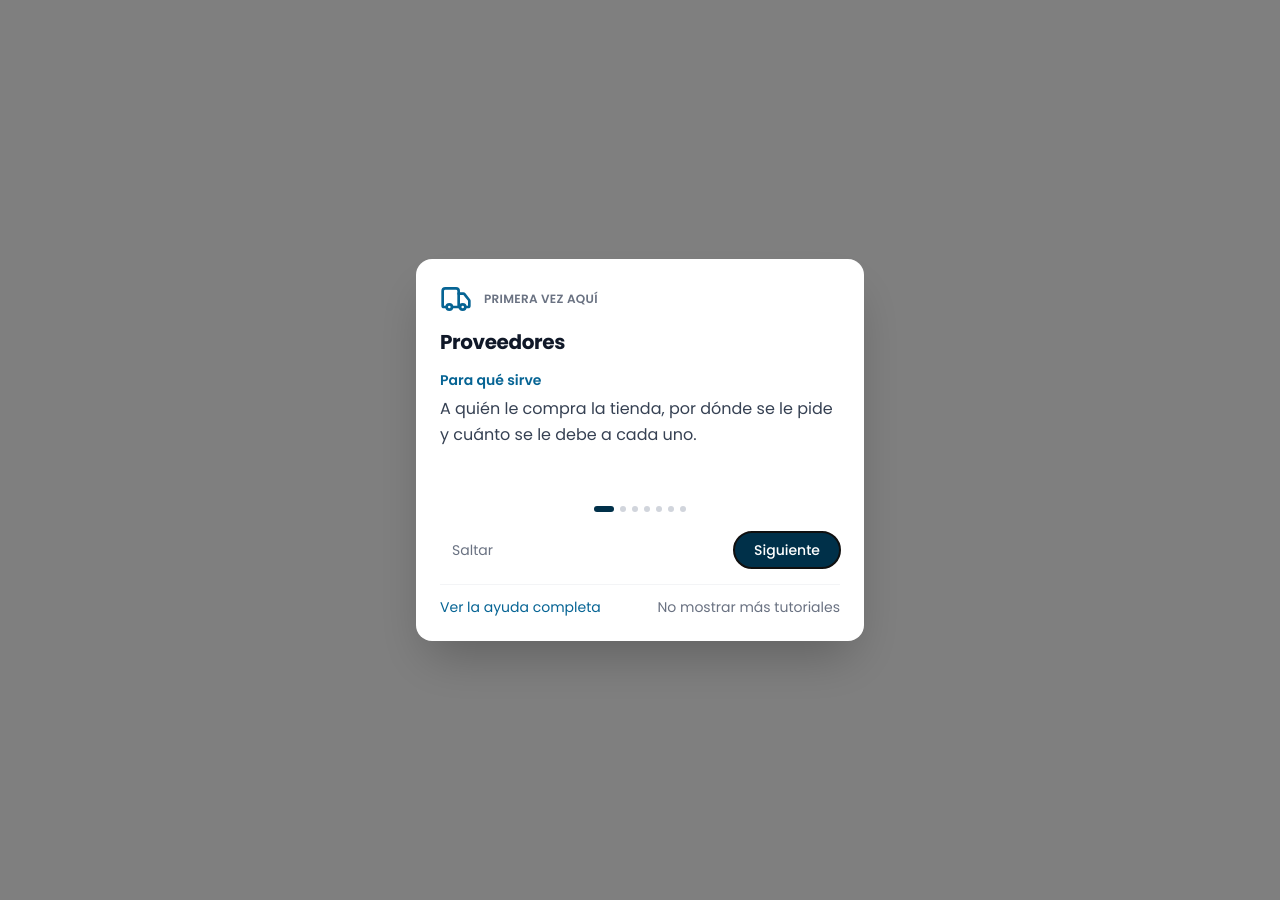
it: el tutorial de cada apartado › en Proveedores, sale primero su tutorial y el aviso de enlazarlos después
Check: the number of dialogs is 1, box [416,259,864,641]
Click the button "Saltar" at (472, 550), box [440,532,505,568]
Wait 500 ms
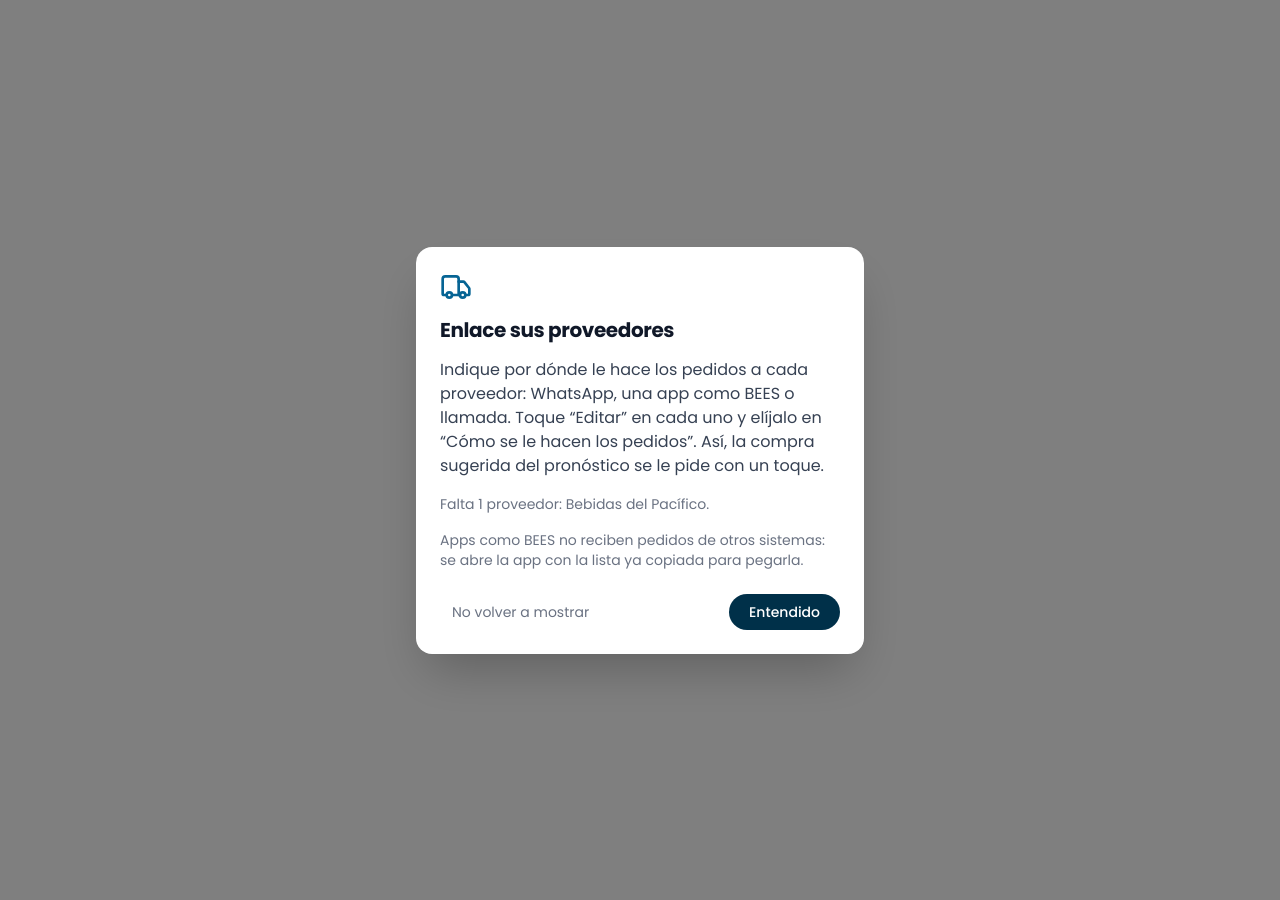
Check: the dialog "Enlace sus proveedores" is shown, box [416,246,864,654]
